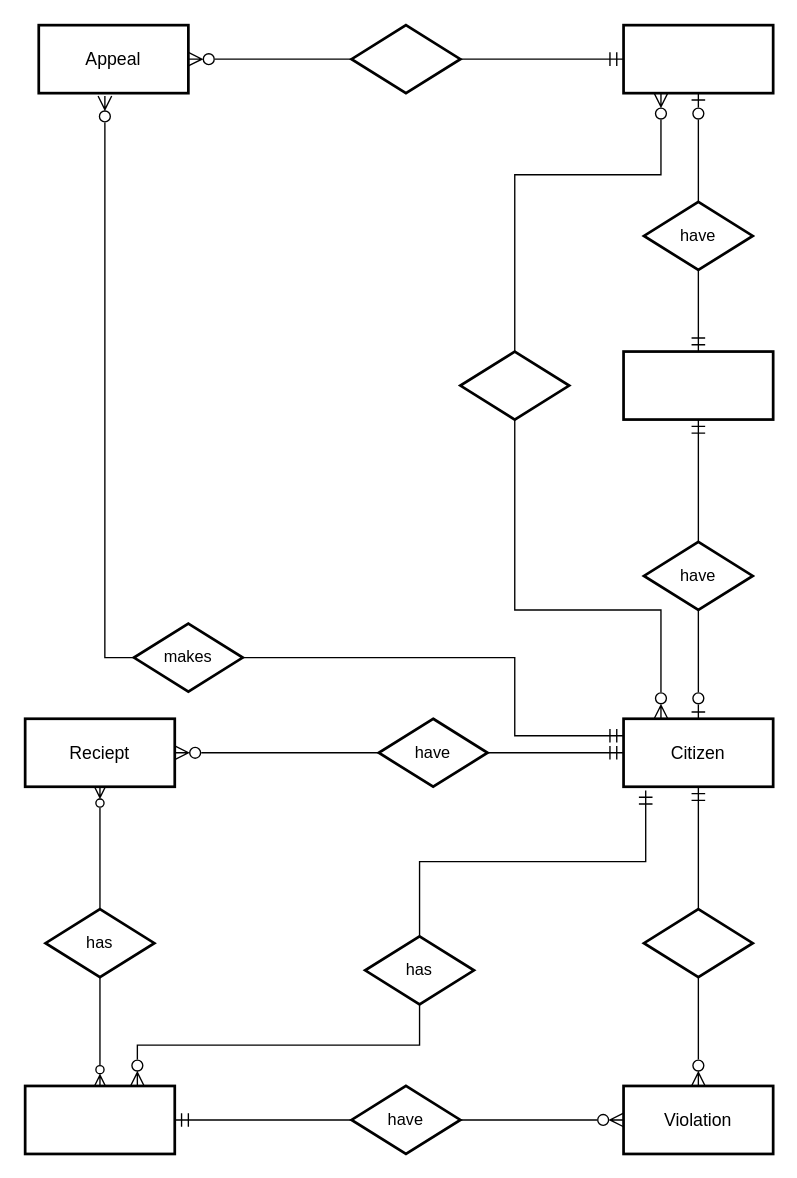
Image size: 797x1178. Some labels were removed from this diagram. The shapes that lost their labels are listed below. From the top down, each one's centre as x and y in pixels, then its label:
At point (405, 58): "handles".
At point (698, 58): "Government Officer".
At point (514, 385): "suspends".
At point (698, 385): "Custom User".
At point (697, 942): "reports".
At point (99, 1119): "Motor Bike".
